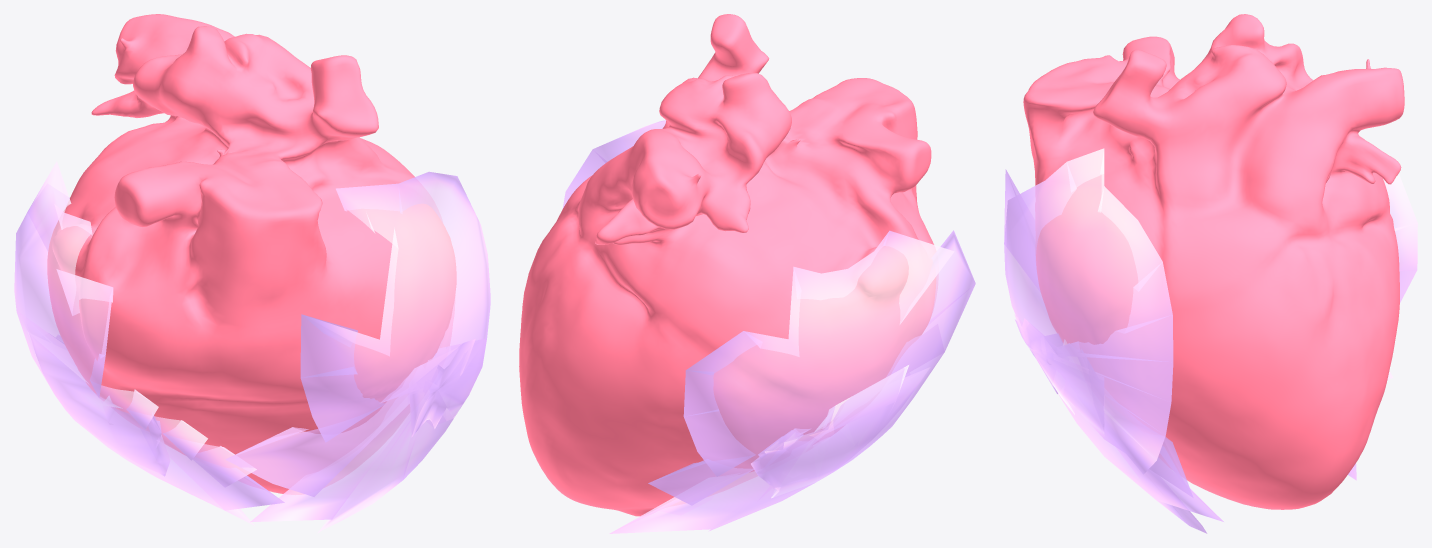
The model's file is heart-organ-responding.glb.
3 views of the same model, side by side, from view 1: azimuth 30°, elevation 25°; view 2: azimuth 150°, elevation 25°; view 3: azimuth 270°, elevation 25° (orthographic). The views are drawn at different scales.
Parts seen in each view (by area): view 1: mesh_base_material_0, Amyloid_0, Amyloid_3; view 2: mesh_base_material_0, Amyloid_3, Amyloid_0; view 3: mesh_base_material_0, Amyloid_0, Amyloid_3.
Boxes of the visible parts, x1,y1,x2,y2 form: mesh_base_material_0: (47,14,456,494); Amyloid_0: (225,171,490,533); Amyloid_3: (14,161,284,525); mesh_base_material_0: (519,14,937,516); Amyloid_3: (609,230,975,533); Amyloid_0: (562,120,665,208); mesh_base_material_0: (1023,14,1404,509); Amyloid_0: (1004,148,1223,533); Amyloid_3: (1348,173,1417,480).
Size of the model in its own units: 1.83 by 2.1 by 1.69.
